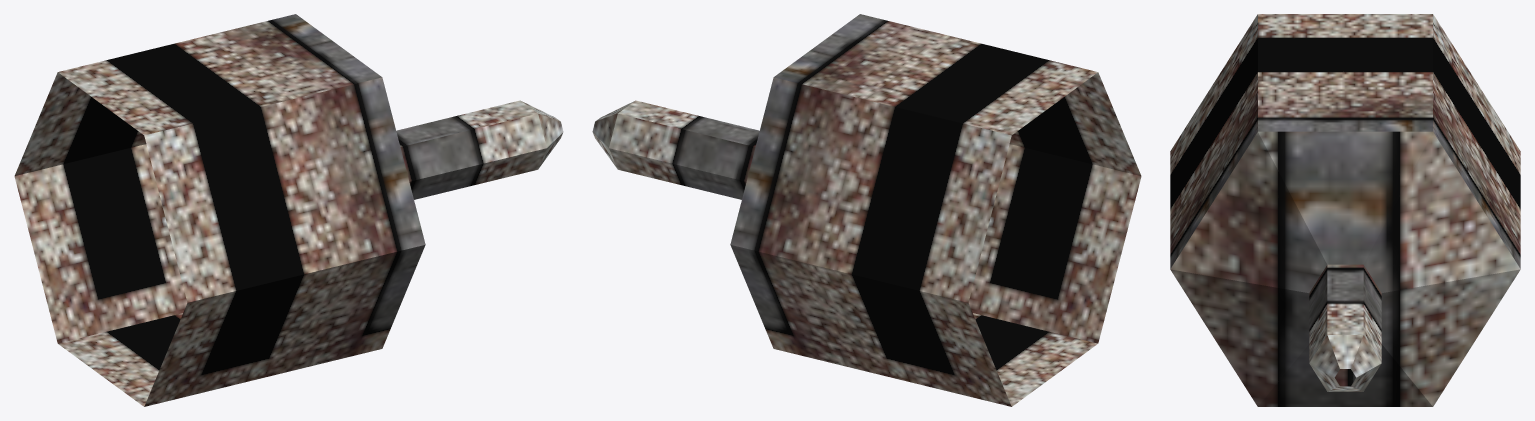
File: Urban_PipeEndpieceWithHandle_Model.fbx
3 renders of one model, left to right at view 1: azimuth 30°, elevation 25°; view 2: azimuth 150°, elevation 25°; view 3: azimuth 270°, elevation 25°, orthographic.
Visible parts, largest first — view 1: Urban_PipeEndpieceWithHandle_Mesh; view 2: Urban_PipeEndpieceWithHandle_Mesh; view 3: Urban_PipeEndpieceWithHandle_Mesh.
Part boxes in pixels (x1,y1,x2,y2): Urban_PipeEndpieceWithHandle_Mesh: (14, 14, 563, 406); Urban_PipeEndpieceWithHandle_Mesh: (592, 14, 1141, 406); Urban_PipeEndpieceWithHandle_Mesh: (1170, 14, 1520, 406).
Size of the model in its own units: 0.3806 by 0.216 by 0.2494.
